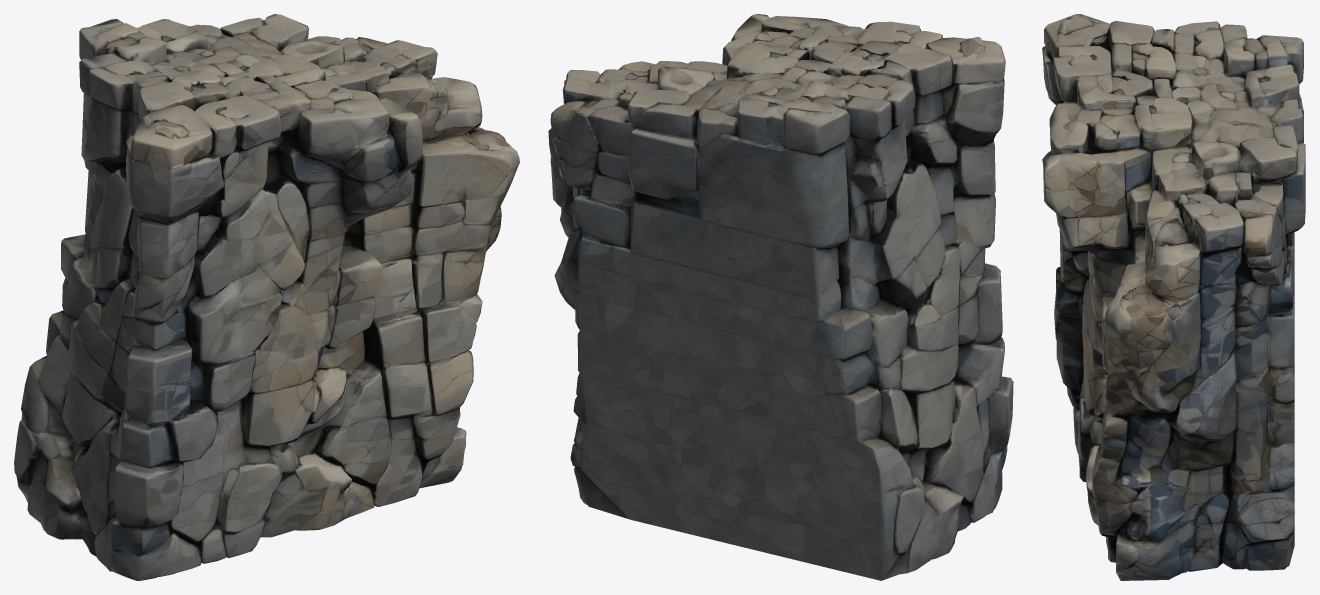
File: VAL_Capital_Environment_Cliff_A.glb
3 renders of one model, left to right at view 1: azimuth 30°, elevation 25°; view 2: azimuth 150°, elevation 25°; view 3: azimuth 270°, elevation 25°, orthographic. The views are drawn at different scales.
Visible parts, largest first — view 1: tripo_node_3a4a6685-d863-4889-a306-e809016db390; view 2: tripo_node_3a4a6685-d863-4889-a306-e809016db390; view 3: tripo_node_3a4a6685-d863-4889-a306-e809016db390.
Boxes of the visible parts, left/top/right/bottom form: tripo_node_3a4a6685-d863-4889-a306-e809016db390: left=14, top=14, right=519, bottom=580; tripo_node_3a4a6685-d863-4889-a306-e809016db390: left=548, top=14, right=1013, bottom=580; tripo_node_3a4a6685-d863-4889-a306-e809016db390: left=1042, top=14, right=1305, bottom=580.
Size of the model in its own units: 0.9824 by 0.998 by 0.5645.
Materials: 1 (1 with a texture image).
